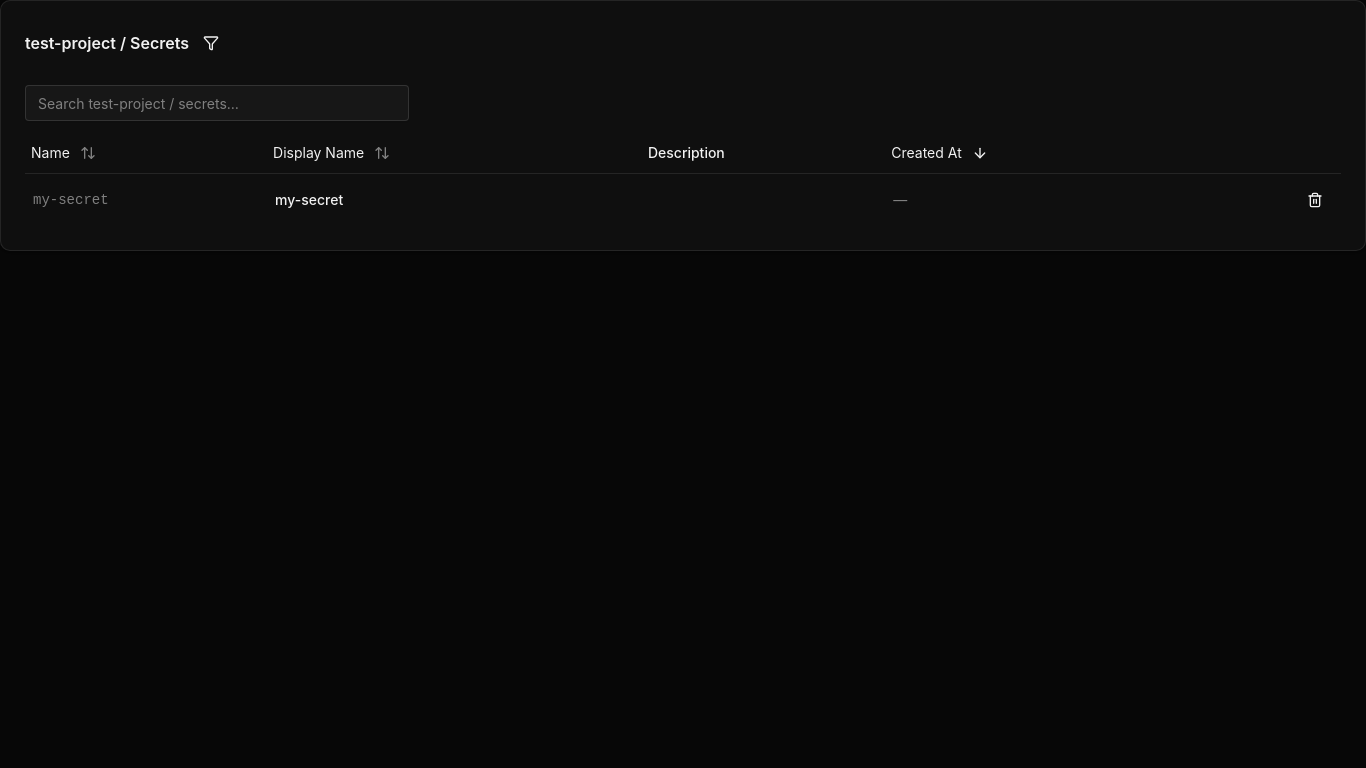
Scenario: SecretsListPage (ResourceGrid v1) › delete button opens ConfirmDeleteDialog
Click the trash icon — the dialog should open
Click the button named "delete my-secret" at (1315, 200), box [1297,182,1333,218]
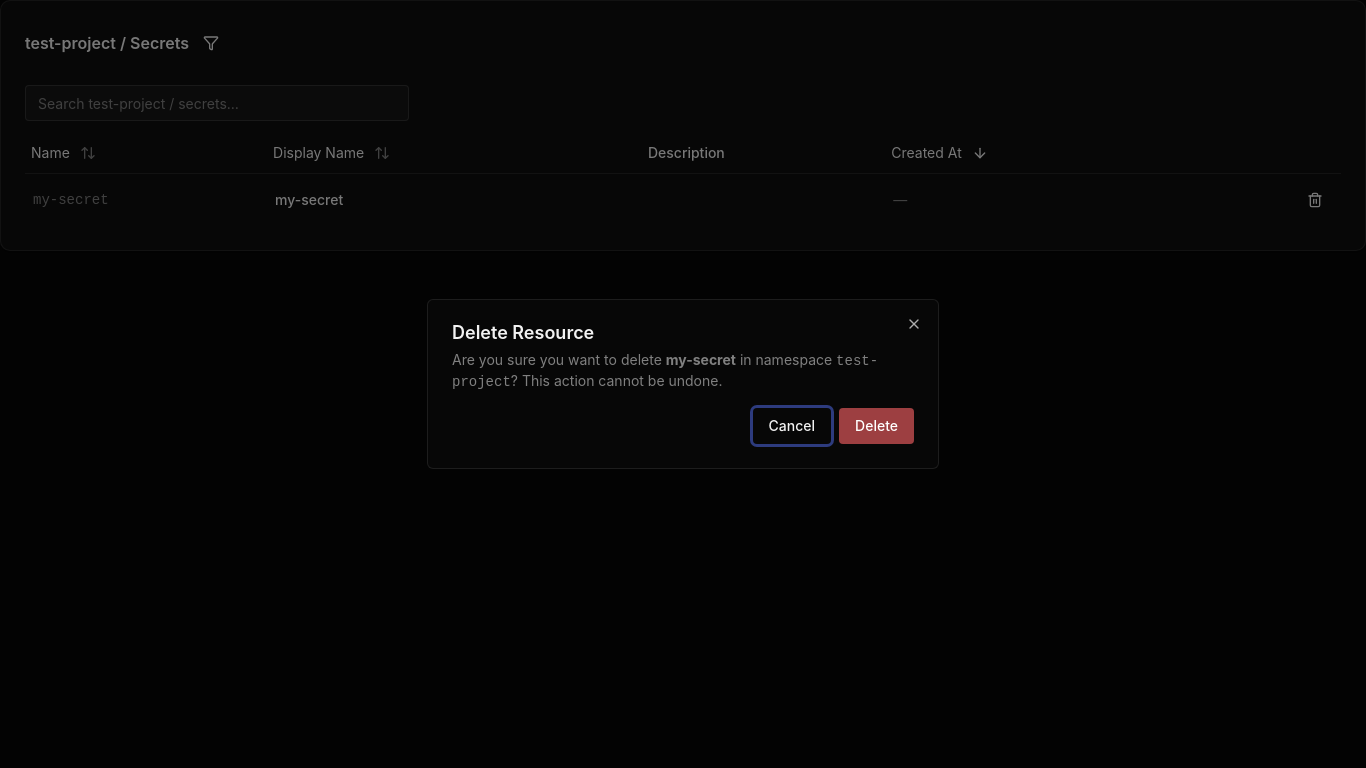
Expected: the dialog is shown, [427,299,939,469]
